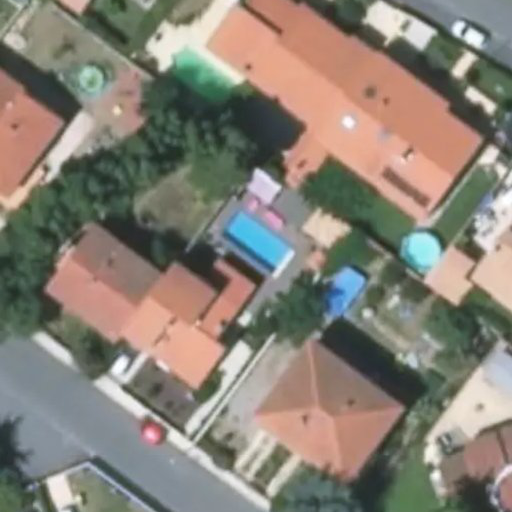pool: (212, 236, 299, 247)
